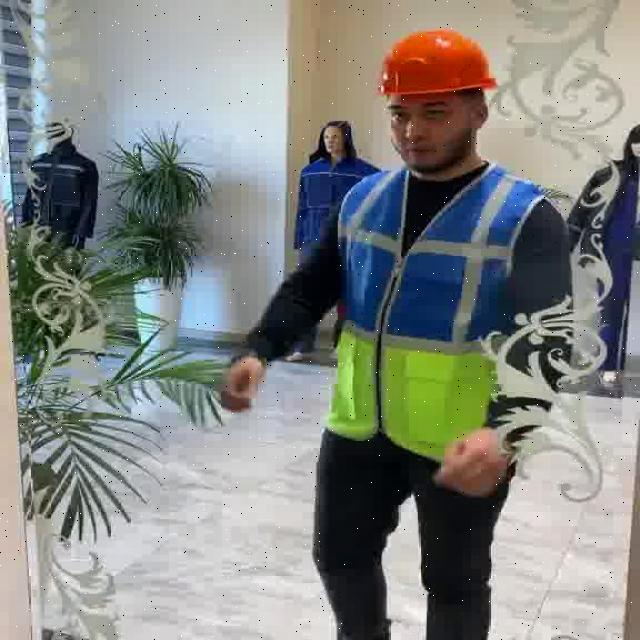Hard_hat: (365, 25, 503, 103)
Person: (215, 22, 563, 636), (564, 97, 638, 640)
Vest: (340, 153, 499, 461)
